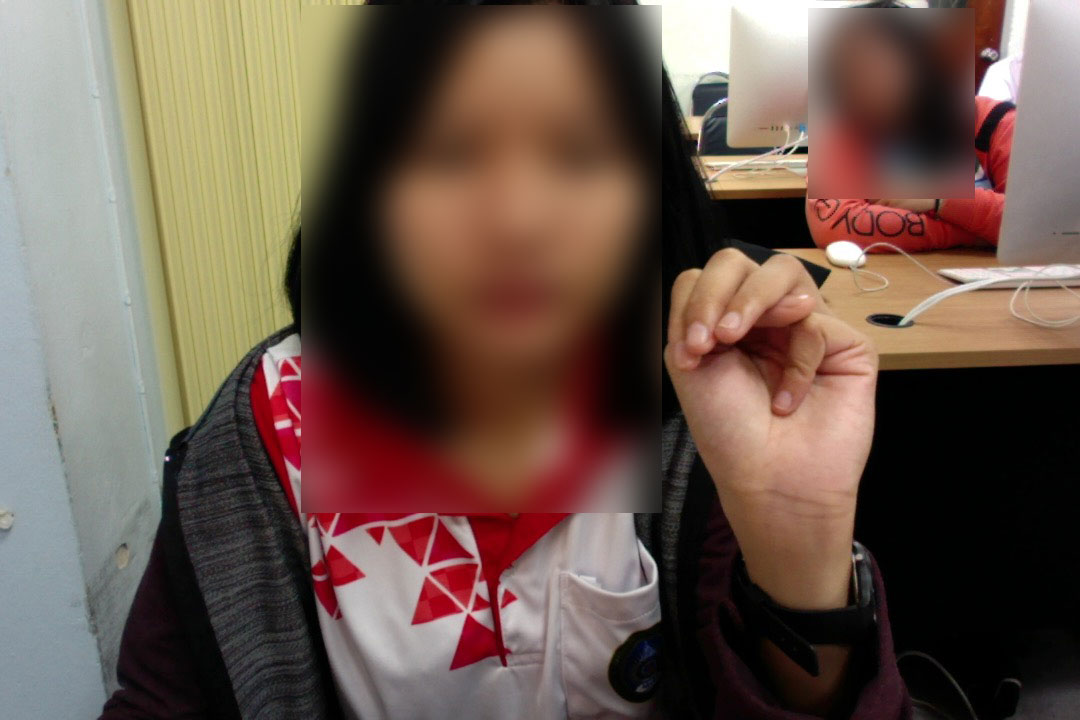mor: (661, 235, 888, 544)
